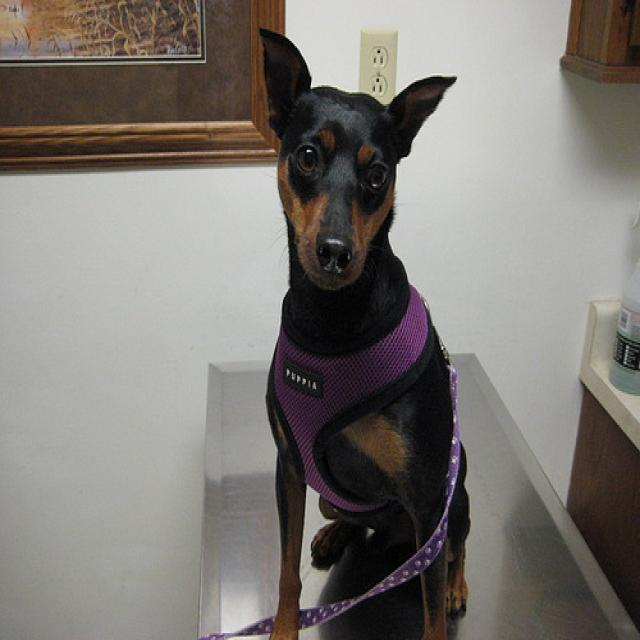dog-miniature_pinscher: (252, 15, 480, 637)
